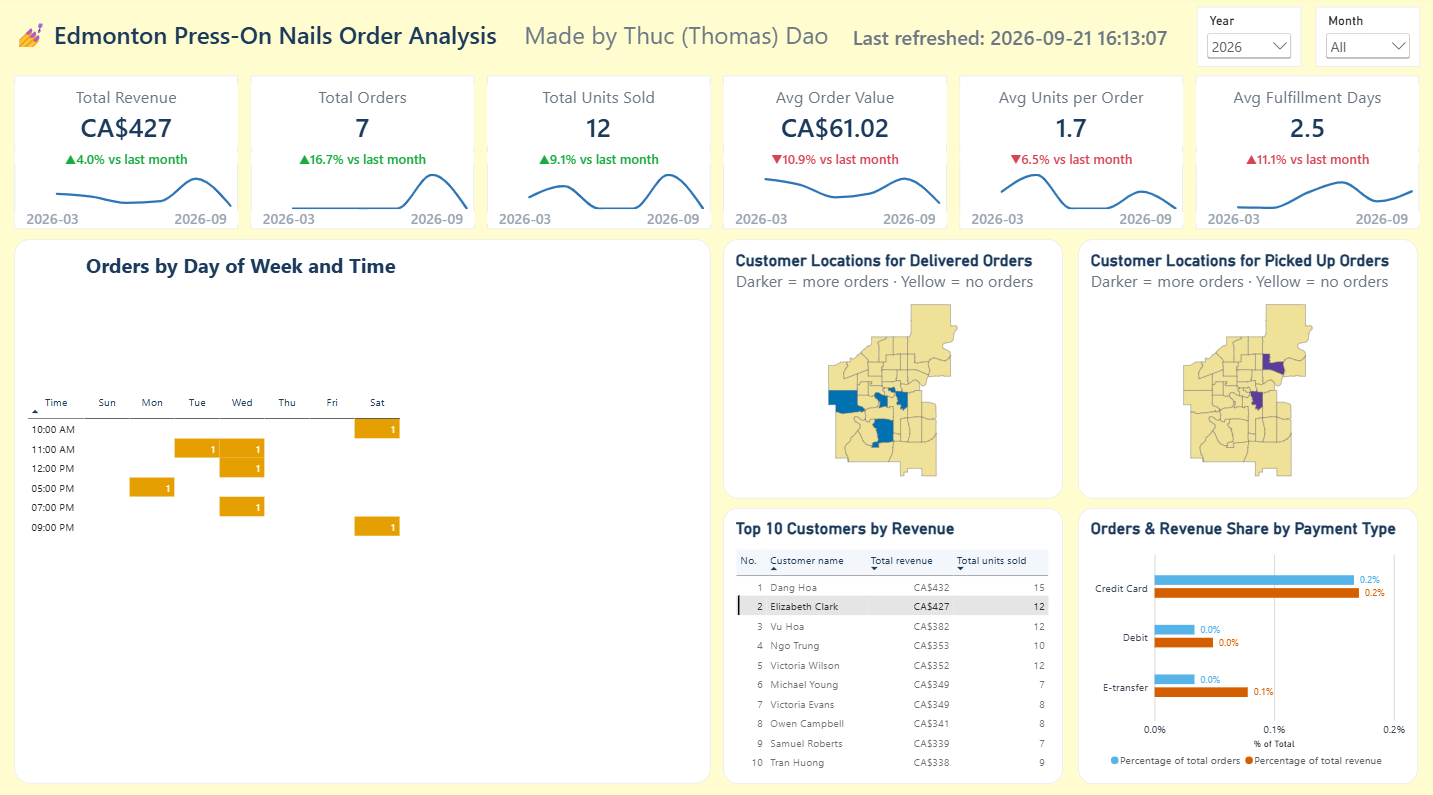

What the dashboard file says about the page in this screenshot:
{"tool":"powerbi","page":{"name":"Order Analysis","canvas":[1920,1080],"ordinal":0},"visuals":[{"type":"shape","box":[1599,104,298,205],"z":0},{"type":"shape","box":[969,104,298,205],"z":1000},{"type":"shape","box":[24,104,298,205],"z":2000},{"type":"shape","box":[339,104,298,205],"z":3000},{"type":"shape","box":[1284,104,298,205],"z":4000},{"type":"shape","box":[654,104,298,205],"z":5000},{"type":"cardVisual","fields":{"Data":["Orders.Total Revenue"]},"box":[24,110,298,92],"z":6000},{"type":"textbox","box":[24,24,660,56],"z":7000},{"type":"slicer","fields":{"Values":["Calendar.Year"]},"box":[1599.4,12.2,139.5,80.2],"z":8000},{"type":"slicer","fields":{"Values":["Calendar.MonthName"]},"box":[1758.1,12.2,139.5,80.2],"z":9000},{"type":"cardVisual","fields":{"Data":["Orders.Total Revenue MoM Label"]},"box":[24,202,298,24],"z":10000},{"type":"cardVisual","fields":{"Data":["Orders.Total Orders"]},"box":[339,110,298,92],"z":11000},{"type":"cardVisual","fields":{"Data":["RefreshInfo.Last Refreshed Text"]},"box":[1125,24,470,56],"z":12000},{"type":"cardVisual","fields":{"Data":["Orders.Total Orders MoM Label"]},"box":[339,202,298,24],"z":13000},{"type":"textbox","box":[695,24,430,56],"z":14000},{"type":"cardVisual","fields":{"Data":["Orders.Total Units Sold"]},"box":[654,110,298,92],"z":15000},{"type":"cardVisual","fields":{"Data":["Orders.Total Units Sold MoM Label"]},"box":[654,202,298,24],"z":16000},{"type":"cardVisual","fields":{"Data":["Orders.Avg Order Value"]},"box":[969,110,298,92],"z":17000},{"type":"cardVisual","fields":{"Data":["Orders.Avg Order Value MoM Label"]},"box":[969,202,298,24],"z":18000},{"type":"cardVisual","fields":{"Data":["Orders.Avg Units per Order"]},"box":[1284,110,298,92],"z":19000},{"type":"cardVisual","fields":{"Data":["Orders.Avg Units per Order MoM Label"]},"box":[1284,202,298,24],"z":20000},{"type":"shape","box":[23.5,322.1,928.4,725.7],"z":21000},{"type":"textbox","box":[100,338.4,450,40],"z":22000},{"type":"clusteredColumnChart","fields":{"Category":["Orders.Order_DayName"],"Y":["Orders.Total Orders"]},"box":[116,377,420,140],"z":23000},{"type":"clusteredBarChart","fields":{"Category":["Orders.Order_HourLabel"],"Y":["Orders.Total Orders"]},"box":[546.5,557.4,376.4,392.7],"z":24000},{"type":"tableEx","fields":{"Values":["Orders.Order_HourLabel","Orders.Orders Sun","Orders.Orders Mon","Orders.Orders Tue","Orders.Orders Wed","Orders.Orders Thu","Orders.Orders Fri","Orders.Orders Sat"]},"box":[40,525,518,507],"z":25000},{"type":"cardVisual","fields":{"Data":["Orders.Avg Fulfillment Days"]},"box":[1599,110,298,92],"z":26000},{"type":"cardVisual","fields":{"Data":["Orders.Avg Fulfillment Days MoM Label"]},"box":[1599,202,298,24],"z":27000},{"type":"shapeMap","title":"Customer Locations for Delivered Orders","fields":{"Category":["Orders.Customer_FSA"],"Value":["Orders.Total Orders"]},"box":[968.2,322.1,453,345.6],"z":28000},{"type":"shapeMap","title":"Customer Locations for Picked Up Orders","fields":{"Category":["Orders.Customer_FSA"],"Value":["Orders.Total Orders"]},"box":[1442.3,322.1,453,345.6],"z":29000},{"type":"tableEx","title":"Top 10 Customers by Revenue","fields":{"Values":["Orders.Customer Revenue Rank","Orders.Customer_Name","Orders.Total Revenue","Orders.Total Units Sold"]},"box":[968.2,680.4,453,368],"z":30000},{"type":"clusteredBarChart","title":"Orders & Revenue Share by Payment Type","fields":{"Category":["Orders.Payment_Type"],"Y":["Orders.Pct of Total Orders","Orders.Pct of Total Revenue"]},"box":[1442.3,680.4,453,368],"z":31000},{"type":"lineChart","fields":{"Category":["TrendMonths.Offset"],"Y":["Orders.Total Orders Trend"]},"box":[339,226,298,55],"z":32000},{"type":"lineChart","fields":{"Category":["TrendMonths.Offset"],"Y":["Orders.Avg Order Value Trend"]},"box":[969,226,298,55],"z":33000},{"type":"lineChart","fields":{"Category":["TrendMonths.Offset"],"Y":["Orders.Avg Fulfillment Days Trend"]},"box":[1599,226,298,55],"z":34000},{"type":"lineChart","fields":{"Category":["TrendMonths.Offset"],"Y":["Orders.Avg Units per Order Trend"]},"box":[1284,226,298,55],"z":35000},{"type":"lineChart","fields":{"Category":["TrendMonths.Offset"],"Y":["Orders.Total Units Sold Trend"]},"box":[654,226,298,55],"z":36000},{"type":"lineChart","fields":{"Category":["TrendMonths.Offset"],"Y":["Orders.Total Revenue Trend"]},"box":[24,226,298,55],"z":37000},{"type":"cardVisual","fields":{"Data":["TrendMonths.Trend Start Label"]},"box":[969,281,149,24],"z":38000},{"type":"cardVisual","fields":{"Data":["TrendMonths.Trend Start Label"]},"box":[24,281,149,24],"z":39000},{"type":"cardVisual","fields":{"Data":["TrendMonths.Trend Start Label"]},"box":[1599,281,149,24],"z":40000},{"type":"cardVisual","fields":{"Data":["TrendMonths.Trend Start Label"]},"box":[1284,281,149,24],"z":41000},{"type":"cardVisual","fields":{"Data":["TrendMonths.Trend Start Label"]},"box":[339,281,149,24],"z":42000},{"type":"cardVisual","fields":{"Data":["TrendMonths.Trend Start Label"]},"box":[654,281,149,24],"z":43000},{"type":"cardVisual","fields":{"Data":["TrendMonths.Trend End Label"]},"box":[1748,281,149,24],"z":44000},{"type":"cardVisual","fields":{"Data":["TrendMonths.Trend End Label"]},"box":[173,281,149,24],"z":45000},{"type":"cardVisual","fields":{"Data":["TrendMonths.Trend End Label"]},"box":[488,281,149,24],"z":46000},{"type":"cardVisual","fields":{"Data":["TrendMonths.Trend End Label"]},"box":[1118,281,149,24],"z":47000},{"type":"cardVisual","fields":{"Data":["TrendMonths.Trend End Label"]},"box":[803,281,149,24],"z":48000},{"type":"cardVisual","fields":{"Data":["TrendMonths.Trend End Label"]},"box":[1433,281,149,24],"z":49000}]}

Visuals, with their boxes in screenshot pixels (x1, y1, x2, y2), scaled from the page's 1920x1080 canvas onto the 1433x795 screenshot:
shape: bbox=(1193, 77, 1416, 227)
shape: bbox=(723, 77, 946, 227)
shape: bbox=(18, 77, 240, 227)
shape: bbox=(253, 77, 475, 227)
shape: bbox=(958, 77, 1181, 227)
shape: bbox=(488, 77, 711, 227)
cardVisual - Orders.Total Revenue: bbox=(18, 81, 240, 149)
textbox: bbox=(18, 18, 511, 59)
slicer - Calendar.Year: bbox=(1194, 9, 1298, 68)
slicer - Calendar.MonthName: bbox=(1312, 9, 1416, 68)
cardVisual - Orders.Total Revenue MoM Label: bbox=(18, 149, 240, 166)
cardVisual - Orders.Total Orders: bbox=(253, 81, 475, 149)
cardVisual - RefreshInfo.Last Refreshed Text: bbox=(840, 18, 1190, 59)
cardVisual - Orders.Total Orders MoM Label: bbox=(253, 149, 475, 166)
textbox: bbox=(519, 18, 840, 59)
cardVisual - Orders.Total Units Sold: bbox=(488, 81, 711, 149)
cardVisual - Orders.Total Units Sold MoM Label: bbox=(488, 149, 711, 166)
cardVisual - Orders.Avg Order Value: bbox=(723, 81, 946, 149)
cardVisual - Orders.Avg Order Value MoM Label: bbox=(723, 149, 946, 166)
cardVisual - Orders.Avg Units per Order: bbox=(958, 81, 1181, 149)
cardVisual - Orders.Avg Units per Order MoM Label: bbox=(958, 149, 1181, 166)
shape: bbox=(18, 237, 710, 771)
textbox: bbox=(75, 249, 410, 279)
clusteredColumnChart - Orders.Order_DayName x Orders.Total Orders: bbox=(87, 278, 400, 381)
clusteredBarChart - Orders.Order_HourLabel x Orders.Total Orders: bbox=(408, 410, 689, 699)
tableEx - Orders.Order_HourLabel x Orders.Orders Sun: bbox=(30, 386, 416, 760)
cardVisual - Orders.Avg Fulfillment Days: bbox=(1193, 81, 1416, 149)
cardVisual - Orders.Avg Fulfillment Days MoM Label: bbox=(1193, 149, 1416, 166)
"Customer Locations for Delivered Orders" shapeMap: bbox=(723, 237, 1061, 492)
"Customer Locations for Picked Up Orders" shapeMap: bbox=(1076, 237, 1415, 492)
"Top 10 Customers by Revenue" tableEx: bbox=(723, 501, 1061, 772)
"Orders & Revenue Share by Payment Type" clusteredBarChart: bbox=(1076, 501, 1415, 772)
lineChart - TrendMonths.Offset x Orders.Total Orders Trend: bbox=(253, 166, 475, 207)
lineChart - TrendMonths.Offset x Orders.Avg Order Value Trend: bbox=(723, 166, 946, 207)
lineChart - TrendMonths.Offset x Orders.Avg Fulfillment Days Trend: bbox=(1193, 166, 1416, 207)
lineChart - TrendMonths.Offset x Orders.Avg Units per Order Trend: bbox=(958, 166, 1181, 207)
lineChart - TrendMonths.Offset x Orders.Total Units Sold Trend: bbox=(488, 166, 711, 207)
lineChart - TrendMonths.Offset x Orders.Total Revenue Trend: bbox=(18, 166, 240, 207)
cardVisual - TrendMonths.Trend Start Label: bbox=(723, 207, 834, 225)
cardVisual - TrendMonths.Trend Start Label: bbox=(18, 207, 129, 225)
cardVisual - TrendMonths.Trend Start Label: bbox=(1193, 207, 1305, 225)
cardVisual - TrendMonths.Trend Start Label: bbox=(958, 207, 1070, 225)
cardVisual - TrendMonths.Trend Start Label: bbox=(253, 207, 364, 225)
cardVisual - TrendMonths.Trend Start Label: bbox=(488, 207, 599, 225)
cardVisual - TrendMonths.Trend End Label: bbox=(1305, 207, 1416, 225)
cardVisual - TrendMonths.Trend End Label: bbox=(129, 207, 240, 225)
cardVisual - TrendMonths.Trend End Label: bbox=(364, 207, 475, 225)
cardVisual - TrendMonths.Trend End Label: bbox=(834, 207, 946, 225)
cardVisual - TrendMonths.Trend End Label: bbox=(599, 207, 711, 225)
cardVisual - TrendMonths.Trend End Label: bbox=(1070, 207, 1181, 225)
